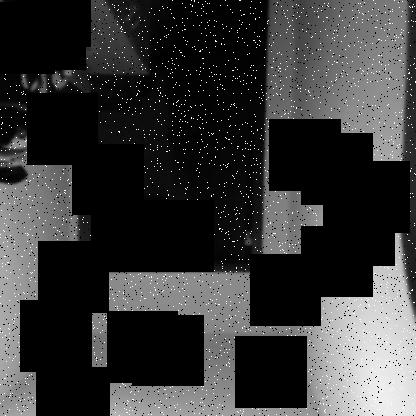Porte: (76, 0, 272, 276)
